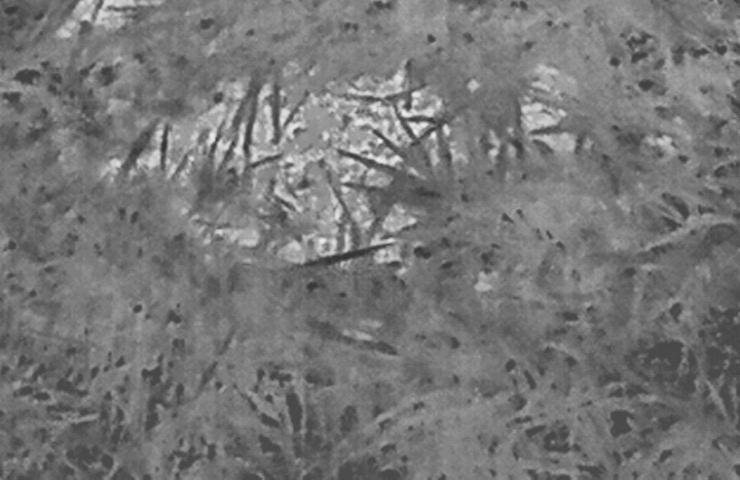landmines: (135, 64, 474, 280)
